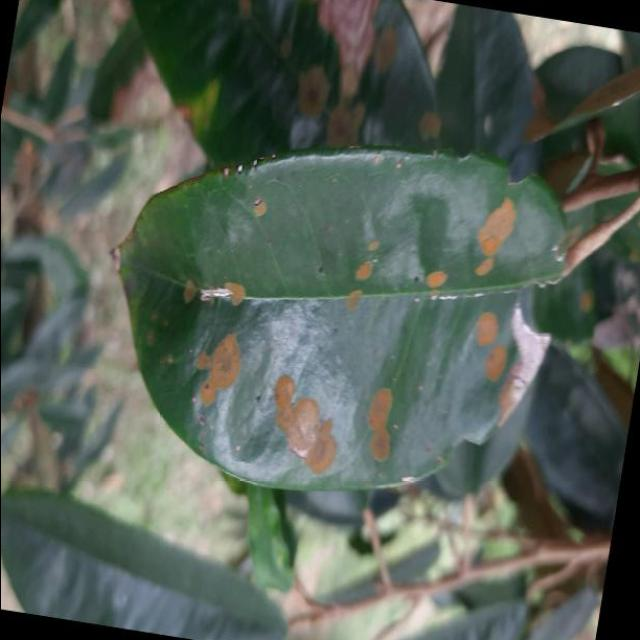Algal Leaf Spot: (64, 108, 588, 536)
